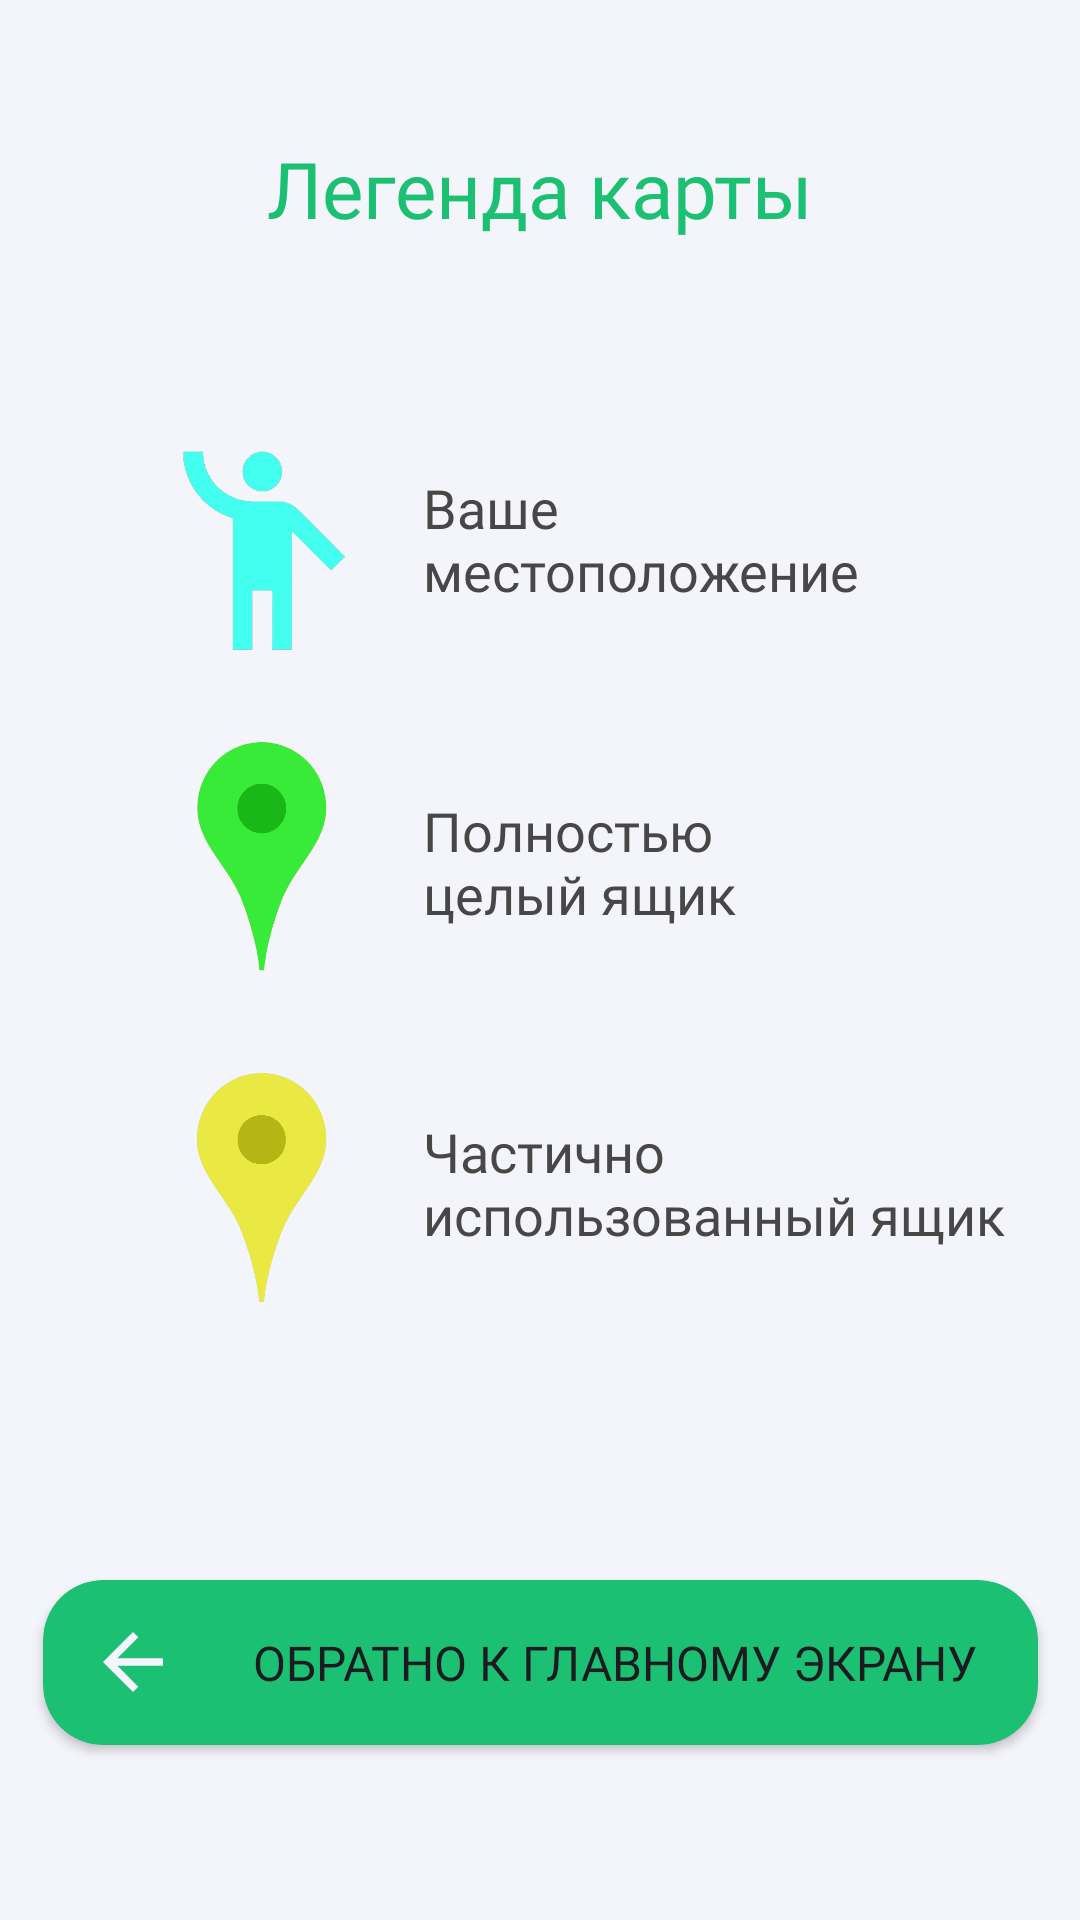

Icons on this 1080px x 1920px Android screen, each with the point to tap as (x,y):
back arrow: (133,1662)
person: (264,550)
